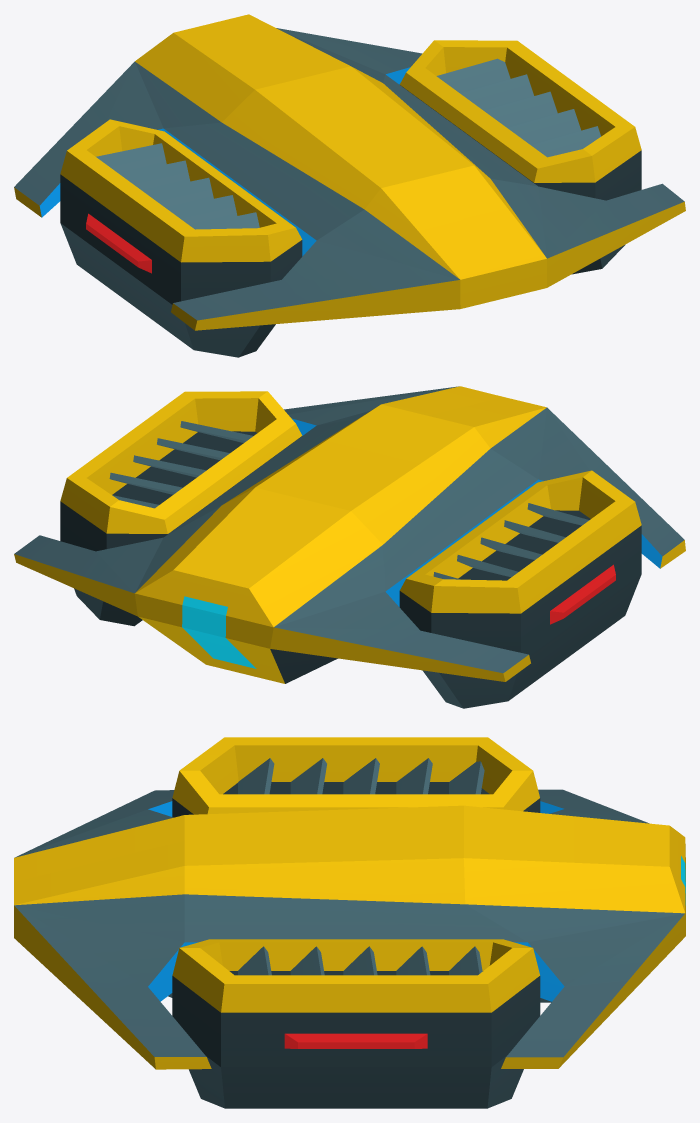
Rendered from Delivery_drone_012.glb.
3 views of the same model, one above another, from view 1: azimuth 30°, elevation 25°; view 2: azimuth 150°, elevation 25°; view 3: azimuth 270°, elevation 25° (orthographic). The views are drawn at different scales.
Parts seen in each view (by area): view 1: Delivery_drone_012, Drone_Delivery_03_EngineR_01.001, Drone_Delivery_03_EngineL_01.001; view 2: Delivery_drone_012, Drone_Delivery_03_EngineR_01.001, Drone_Delivery_03_EngineL_01.001; view 3: Delivery_drone_012, Drone_Delivery_03_EngineL_01.001, Drone_Delivery_03_EngineR_01.001.
Part boxes in pixels (bbox=[...]): Delivery_drone_012: bbox=[14, 14, 685, 330]; Drone_Delivery_03_EngineR_01.001: bbox=[60, 119, 302, 357]; Drone_Delivery_03_EngineL_01.001: bbox=[399, 40, 641, 274]; Delivery_drone_012: bbox=[14, 386, 685, 683]; Drone_Delivery_03_EngineR_01.001: bbox=[399, 470, 641, 708]; Drone_Delivery_03_EngineL_01.001: bbox=[60, 391, 302, 626]; Delivery_drone_012: bbox=[14, 789, 685, 1069]; Drone_Delivery_03_EngineL_01.001: bbox=[172, 939, 540, 1108]; Drone_Delivery_03_EngineR_01.001: bbox=[172, 737, 540, 817].
Size of the model in its own units: 0.9108 by 0.2755 by 0.9631.
Materials: 2 (2 with a texture image).
